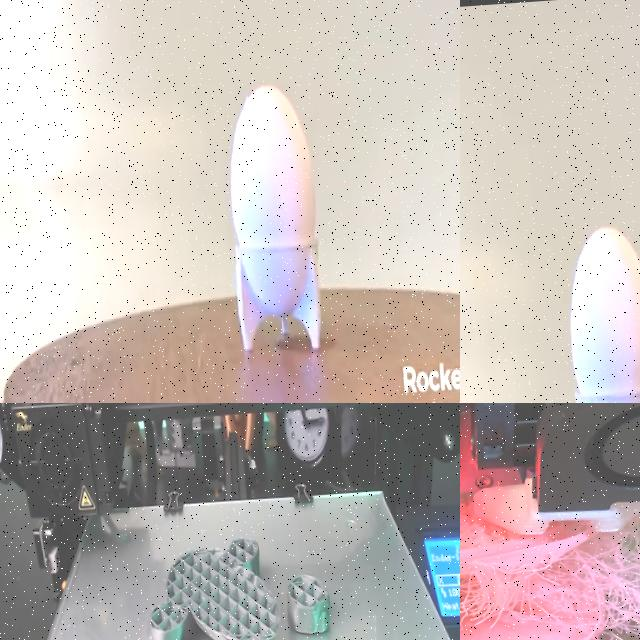spaghetti: (460, 479, 640, 640)
